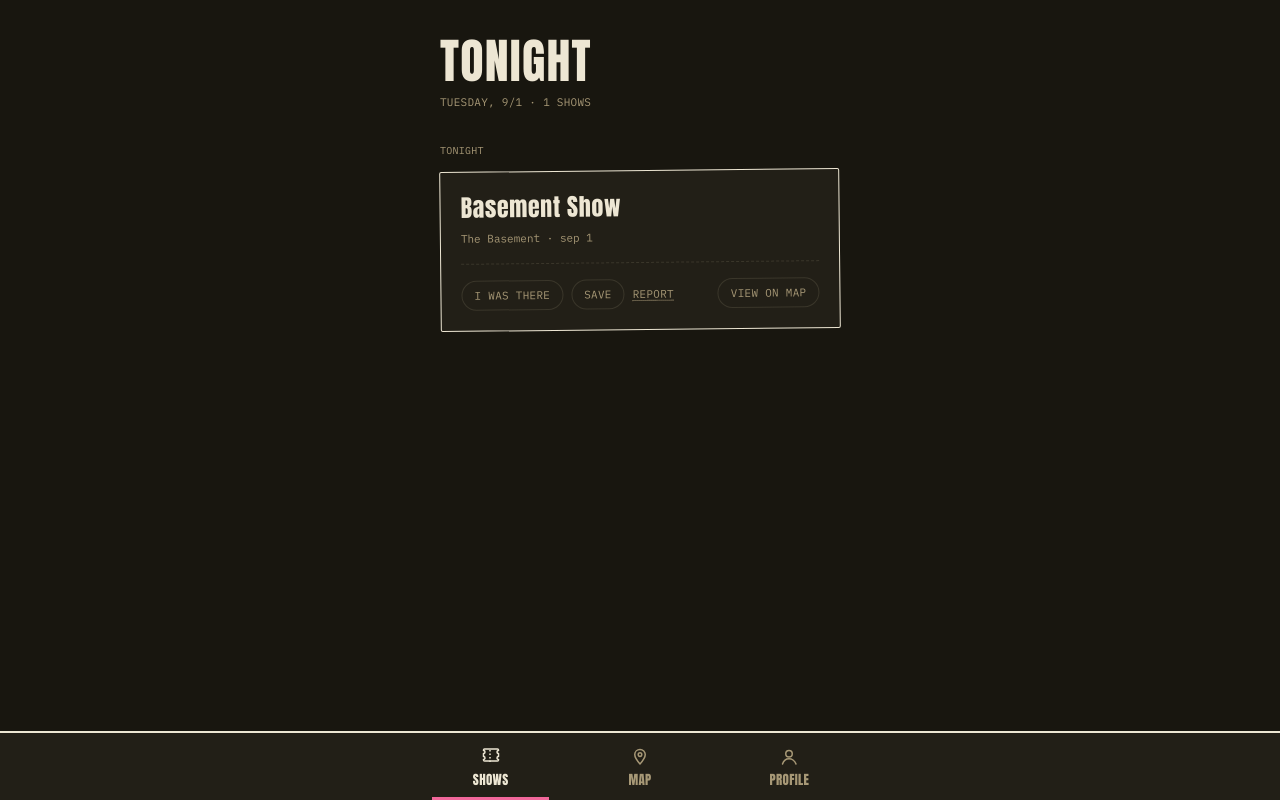
HomeBrowser attendance ('I Was There') › captures a location reading and confirms attendance on tap
Click the button "i was there" at (512, 295), box x1=461 y1=279 x2=563 y2=311
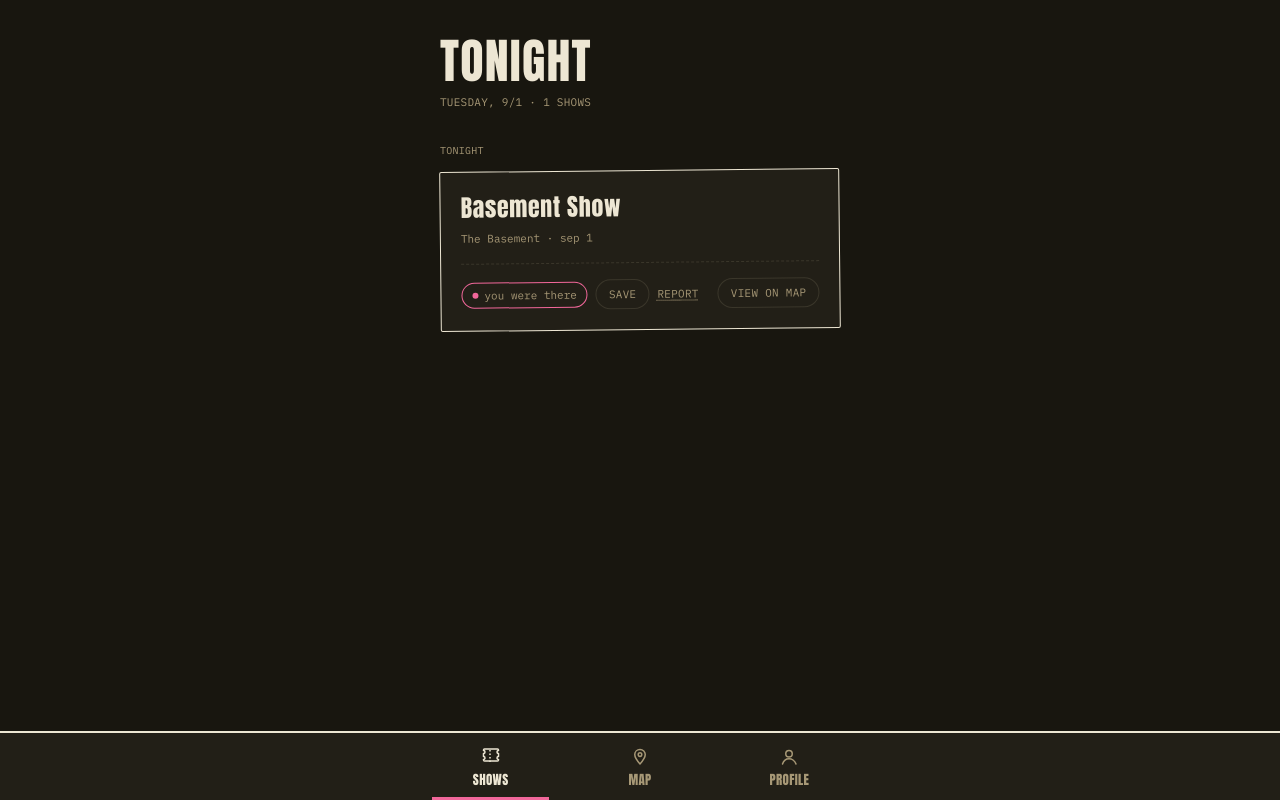
Expected: the text "you were there" is shown, x1=461 y1=281 x2=588 y2=309
